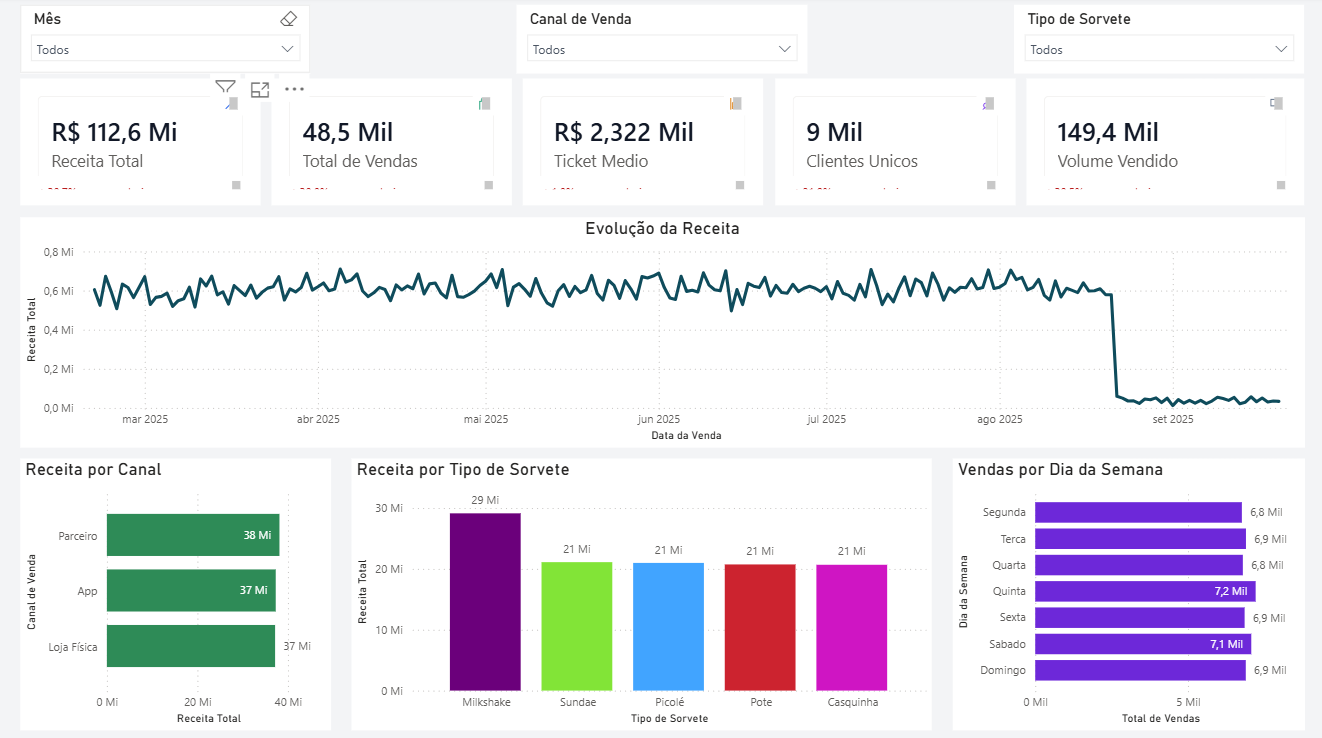

The dashboard page shown, as its layout file describes it:
{"tool":"powerbi","page":{"name":"Visao Executiva","canvas":[1280,720],"ordinal":0},"visuals":[{"type":"cardVisual","fields":{"Data":["fato_vendas.Receita Total"]},"box":[20,80,232,122],"z":0},{"type":"cardVisual","fields":{"Data":["fato_vendas.Total Vendas"]},"box":[263,80,232,122],"z":1000},{"type":"cardVisual","fields":{"Data":["fato_vendas.Ticket Medio"]},"box":[506,80,232,122],"z":2000},{"type":"cardVisual","fields":{"Data":["fato_vendas.Clientes Unicos"]},"box":[749,80,232,122],"z":3000},{"type":"cardVisual","fields":{"Data":["fato_vendas.Volume Vendido"]},"box":[992,80,268,122],"z":4000},{"type":"lineChart","title":"Evolução da Receita","fields":{"Y":["fato_vendas.Receita Total"],"Category":["dim_tempo.Data da Venda"]},"box":[20,214,1240,222],"z":5000},{"type":"clusteredBarChart","title":"Receita por Canal","fields":{"Category":["dim_canais.canal_venda"],"Y":["fato_vendas.Receita Total"]},"box":[20,446,300,262],"z":6000},{"type":"columnChart","title":"Receita por Tipo de Sorvete","fields":{"Category":["dim_produtos.Tipo de Sorvete"],"Y":["fato_vendas.Receita Total"]},"box":[340,446,560,262],"z":7000},{"type":"clusteredBarChart","title":"Vendas por Dia da Semana","fields":{"Category":["dim_tempo.dia_semana"],"Y":["fato_vendas.Total Vendas"]},"box":[920,446,340,262],"z":8000},{"type":"slicer","fields":{"Values":["dim_tempo.nome_mes"]},"box":[21,8,280,66],"z":9000},{"type":"slicer","fields":{"Values":["dim_canais.canal_venda"]},"box":[499,8,281,66],"z":10000},{"type":"slicer","fields":{"Values":["dim_produtos.tipo_sorvete"]},"box":[980,8,280,66],"z":11000},{"type":"textbox","box":[214,93,22,22],"z":12000},{"type":"textbox","box":[457,93,22,22],"z":13000},{"type":"textbox","box":[700,93,22,22],"z":14000},{"type":"textbox","box":[943,93,22,22],"z":15000},{"type":"textbox","box":[1222,93,22,22],"z":16000},{"type":"textbox","box":[34,174,204,18],"z":17000},{"type":"textbox","box":[277,174,204,18],"z":18000},{"type":"textbox","box":[520,174,204,18],"z":19000},{"type":"textbox","box":[763,174,204,18],"z":20000},{"type":"textbox","box":[1006,174,240,18],"z":21000}]}

Visuals, with their boxes in screenshot pixels (x1, y1, x2, y2), scaled from the page's 1280x720 canvas onto the 1322x738 screenshot:
cardVisual - fato_vendas.Receita Total: region(21, 82, 260, 207)
cardVisual - fato_vendas.Total Vendas: region(272, 82, 511, 207)
cardVisual - fato_vendas.Ticket Medio: region(523, 82, 762, 207)
cardVisual - fato_vendas.Clientes Unicos: region(774, 82, 1013, 207)
cardVisual - fato_vendas.Volume Vendido: region(1025, 82, 1301, 207)
"Evolução da Receita" lineChart: region(21, 219, 1301, 447)
"Receita por Canal" clusteredBarChart: region(21, 457, 330, 726)
"Receita por Tipo de Sorvete" columnChart: region(351, 457, 930, 726)
"Vendas por Dia da Semana" clusteredBarChart: region(950, 457, 1301, 726)
slicer - dim_tempo.nome_mes: region(22, 8, 311, 76)
slicer - dim_canais.canal_venda: region(515, 8, 806, 76)
slicer - dim_produtos.tipo_sorvete: region(1012, 8, 1301, 76)
textbox: region(221, 95, 244, 118)
textbox: region(472, 95, 495, 118)
textbox: region(723, 95, 746, 118)
textbox: region(974, 95, 997, 118)
textbox: region(1262, 95, 1285, 118)
textbox: region(35, 178, 246, 197)
textbox: region(286, 178, 497, 197)
textbox: region(537, 178, 748, 197)
textbox: region(788, 178, 999, 197)
textbox: region(1039, 178, 1287, 197)
